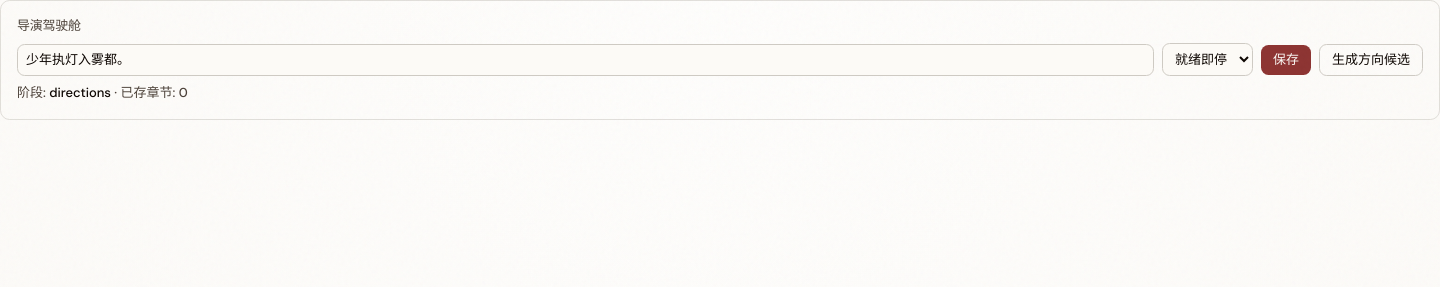
Test: DirectorPanel 方向候选（508 号） › 生成方向候选并渲染标题/钩子/差异化/置信度
The image size is (1440, 287).
Expected: the field with placeholder "一句话灵感…" holds "少年执灯入雾都。", [17, 44, 1154, 76]
Click the button "生成方向候选". click: point(1371, 60)
box: [1319, 44, 1423, 76]
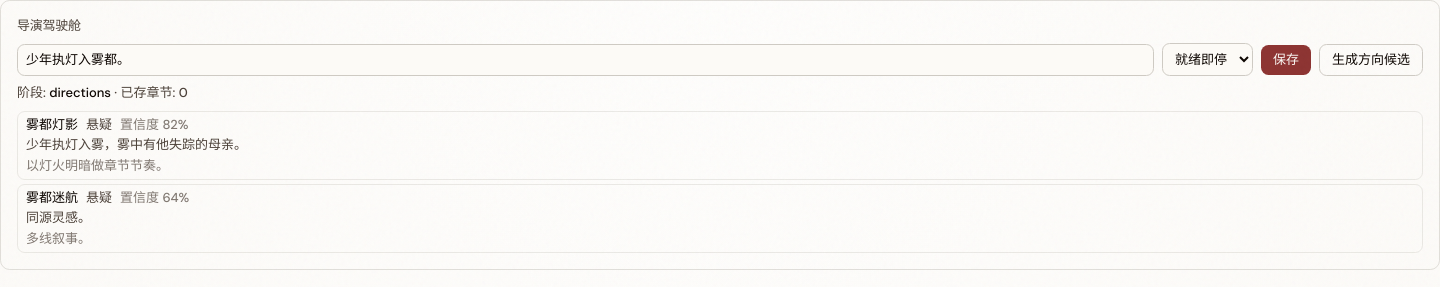
Now the text "雾都灯影" is shown, box [26, 116, 78, 133]
Now the text "雾都迷航" is shown, box [26, 189, 78, 206]
Now the text "少年执灯入雾，雾中有他失踪的母亲。" is shown, box [26, 136, 247, 153]
